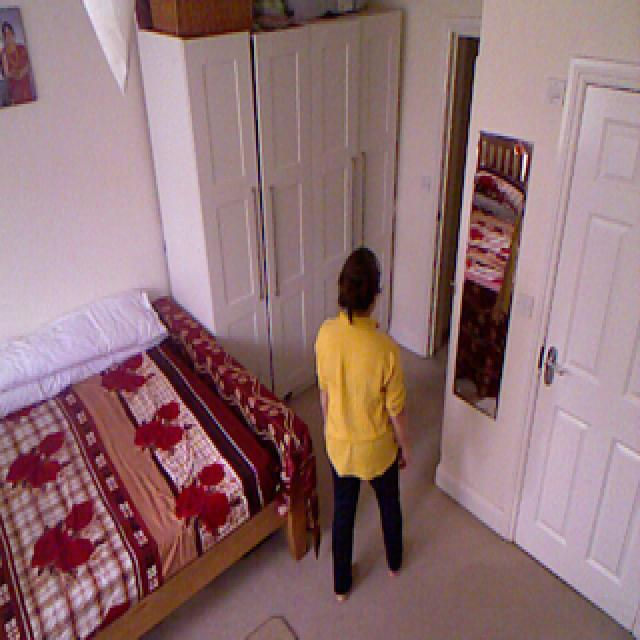standing: (312, 247, 411, 604)
